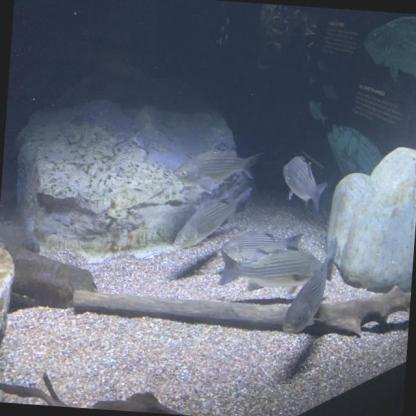fish: (172, 175, 254, 255), (215, 241, 326, 299), (280, 236, 341, 341), (170, 139, 264, 192), (218, 222, 306, 269), (277, 153, 331, 213)
